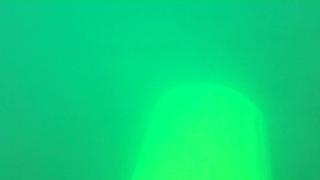pipe: (130, 84, 272, 180)
